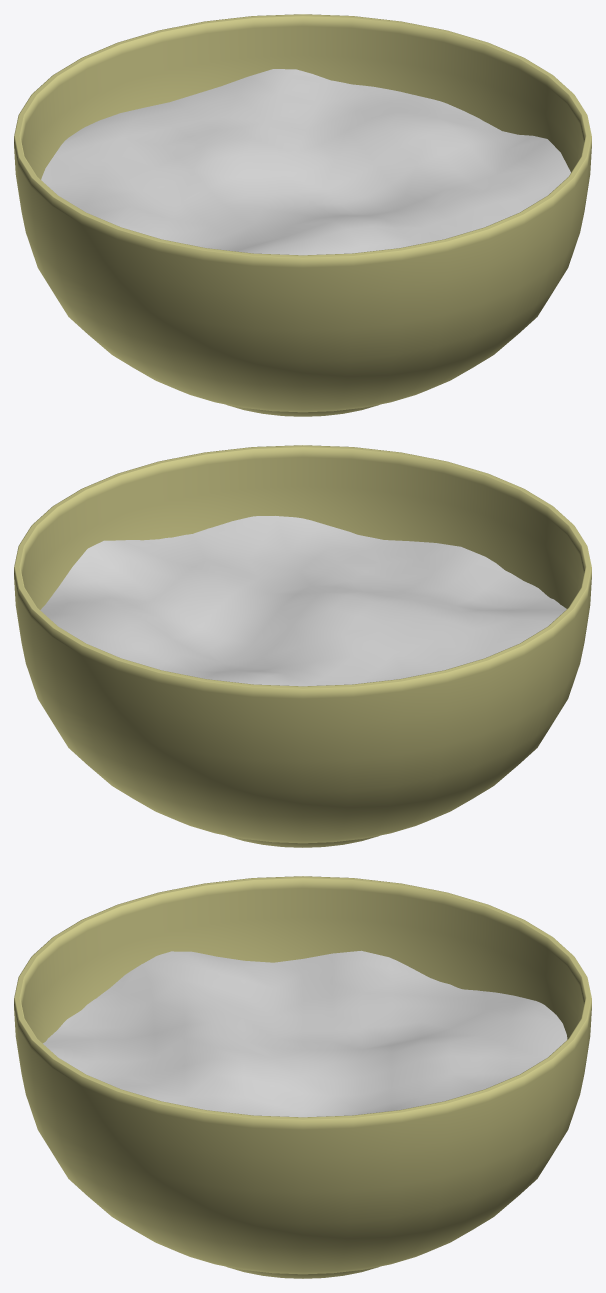
Rendered from bowl-with-food.fbx.
3 views of the same model, one above another, from view 1: azimuth 30°, elevation 25°; view 2: azimuth 150°, elevation 25°; view 3: azimuth 270°, elevation 25° (orthographic).
Parts seen in each view (by area): view 1: Bowl, Contents; view 2: Bowl, Contents; view 3: Bowl, Contents.
Part boxes in pixels (left/top/right/bottom): Bowl: left=14, top=14, right=591, bottom=416; Contents: left=41, top=69, right=570, bottom=255; Bowl: left=14, top=445, right=591, bottom=847; Contents: left=40, top=516, right=566, bottom=686; Bowl: left=14, top=876, right=591, bottom=1278; Contents: left=43, top=950, right=567, bottom=1117.
Size of the model in its own units: 0.1847 by 0.0826 by 0.1847.
